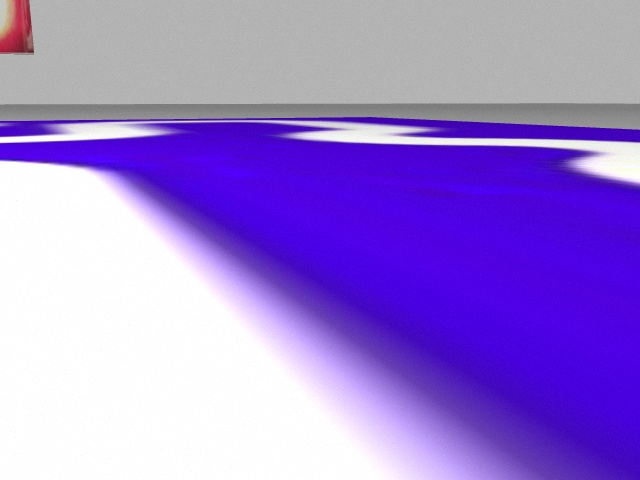red: (1, 2, 31, 55)
